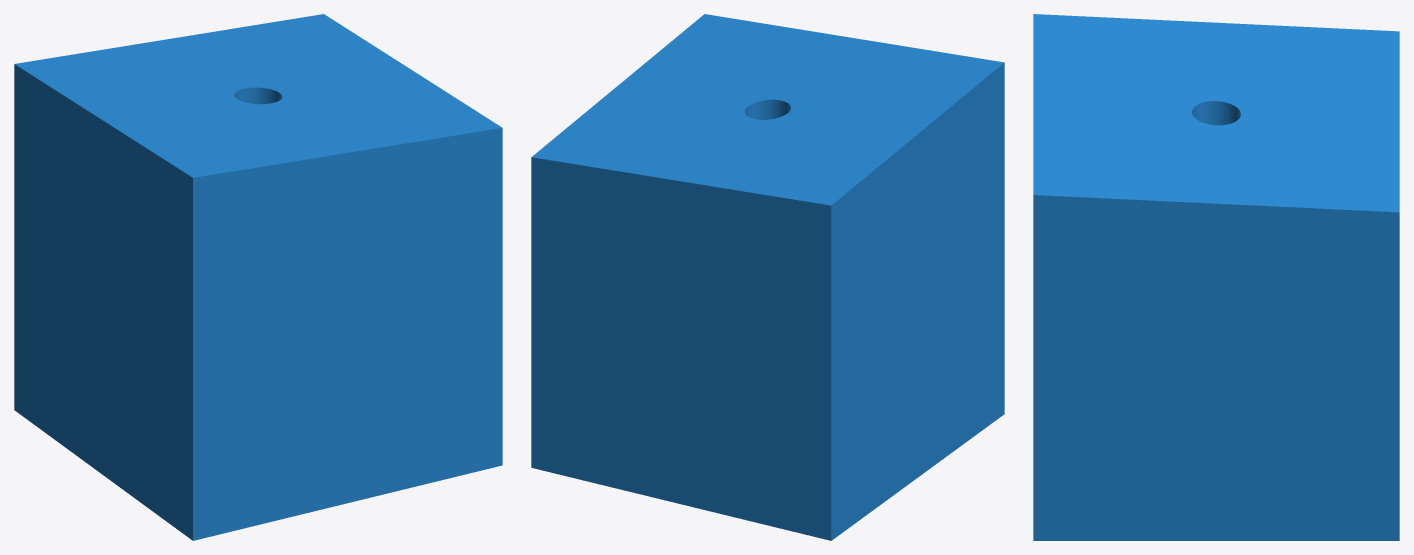
Rendered from bj_calco_2.glb.
3 views of the same model, side by side, from view 1: azimuth 30°, elevation 25°; view 2: azimuth 150°, elevation 25°; view 3: azimuth 270°, elevation 25° (orthographic). The views are drawn at different scales.
Visible parts, largest first — view 1: bj_calco_2; view 2: bj_calco_2; view 3: bj_calco_2.
Boxes of the visible parts, x1=… form: bj_calco_2: x1=14, y1=14, x2=502, y2=540; bj_calco_2: x1=531, y1=14, x2=1004, y2=540; bj_calco_2: x1=1033, y1=14, x2=1399, y2=540.
Size of the model in its own units: 30 by 33.62 by 30.
